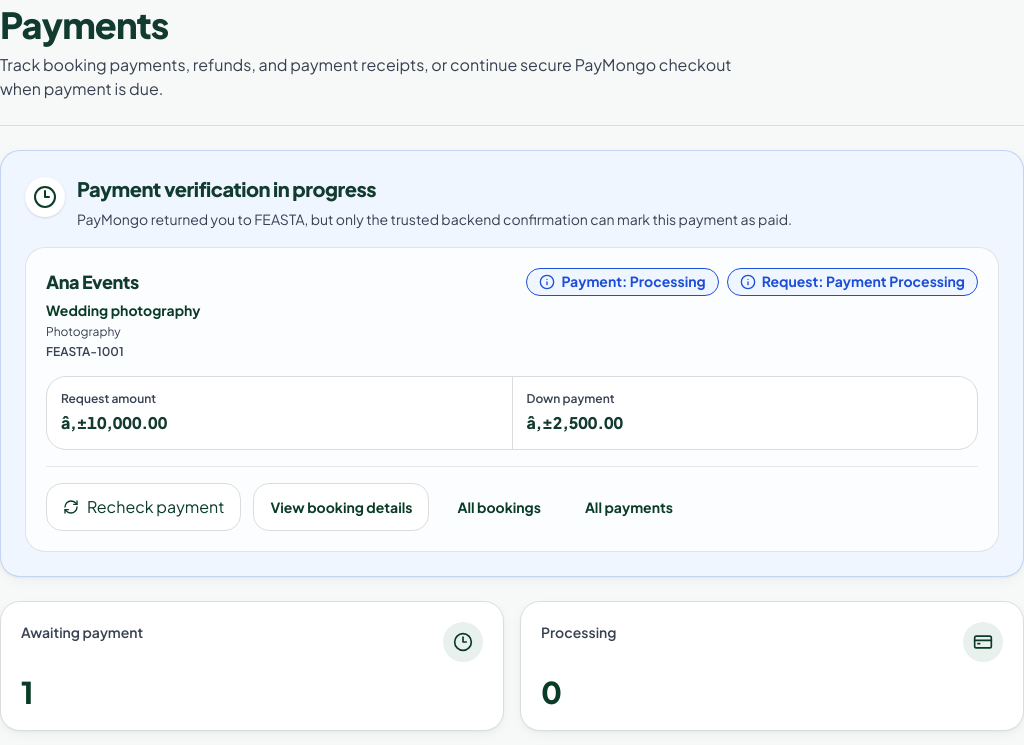
Scenario: customer payments › reconciles a terminal refunded recheck
What coordinates should you click on to do the following:
click the button "Recheck payment"
I would click on:
 (144, 507)
Its box is [46,483,242,531].
(page scrolled)
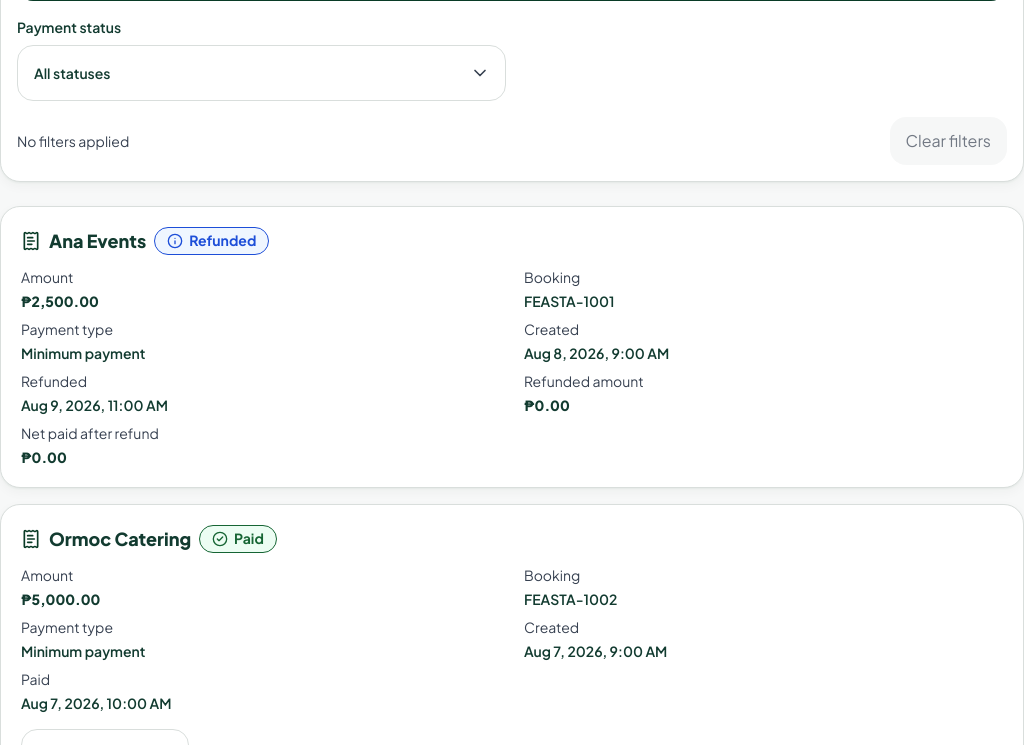
Expected: the element "Ana Events" is shown, [0,206,1023,488]
Expected: the 1st text "Refunded" is shown, [189,232,256,250]
Expected: the text "Aug 9, 2026, 11:00 AM" is shown, [21,396,168,414]
